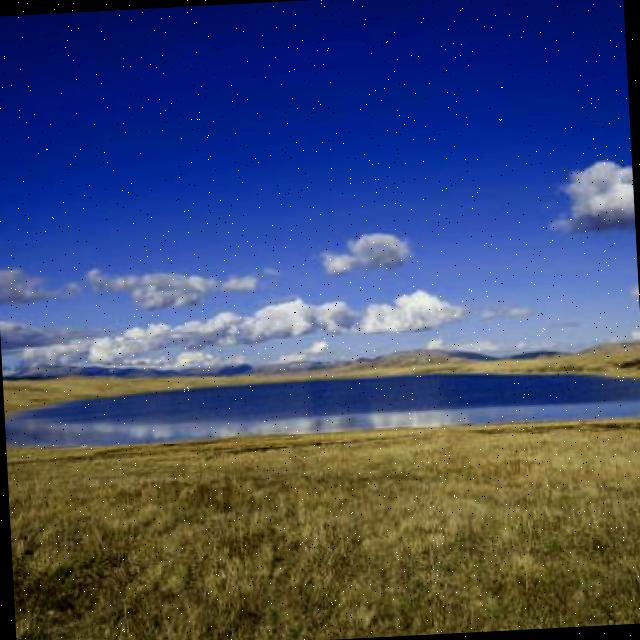Cc: (69, 237, 463, 351)
